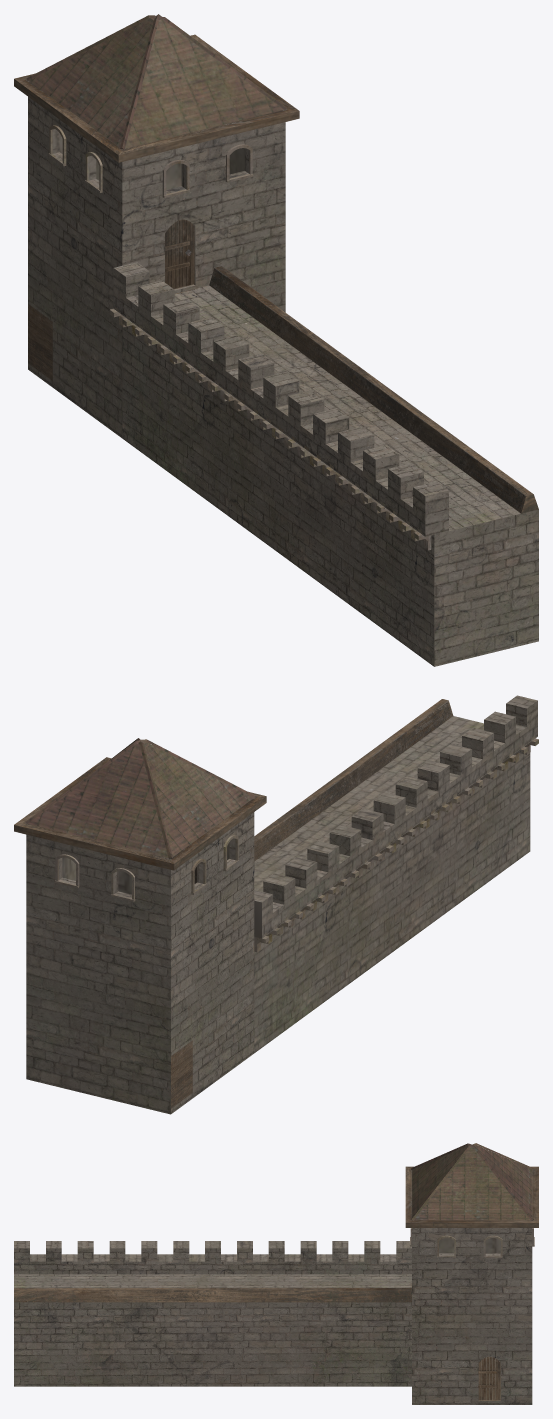
Rendered from 4C2026古城墙11.fbx.
The picture shows the model from 3 angles, top to bottom: view 1: azimuth 30°, elevation 25°; view 2: azimuth 150°, elevation 25°; view 3: azimuth 270°, elevation 25°; orthographic projection. The views are drawn at different scales.
Visible parts, largest first — view 1: Box2610, Box2596, Box2597, Shape043, Box2263_Detached489, Box2599, Box2601; view 2: Box2610, Box2596, Box2597, Shape043, Box2600, Box2601; view 3: Box2610, Box2596, Box2597, Box2263_Detached490, Shape043, Box2598.
Part boxes in pixels (left/top/right/bottom): Box2610: left=109, top=262, right=538, bottom=666; Box2596: left=28, top=97, right=285, bottom=437; Box2597: left=14, top=18, right=299, bottom=162; Shape043: left=26, top=14, right=286, bottom=149; Box2263_Detached489: left=165, top=219, right=194, bottom=288; Box2599: left=162, top=144, right=253, bottom=198; Box2601: left=48, top=125, right=102, bottom=192; Box2610: left=254, top=695, right=538, bottom=1052; Box2596: left=26, top=812, right=254, bottom=1114; Box2597: left=14, top=742, right=266, bottom=870; Shape043: left=25, top=738, right=255, bottom=858; Box2600: left=55, top=854, right=135, bottom=901; Box2601: left=191, top=835, right=239, bottom=894; Box2610: left=14, top=1241, right=411, bottom=1386; Box2596: left=412, top=1228, right=532, bottom=1404; Box2597: left=405, top=1145, right=538, bottom=1227; Box2263_Detached490: left=478, top=1356, right=500, bottom=1400; Shape043: left=411, top=1143, right=533, bottom=1220; Box2598: left=437, top=1235, right=502, bottom=1257.
Bounding box in the file's own units: 623 × 1186 × 2400.
1 material, 1 textured.
